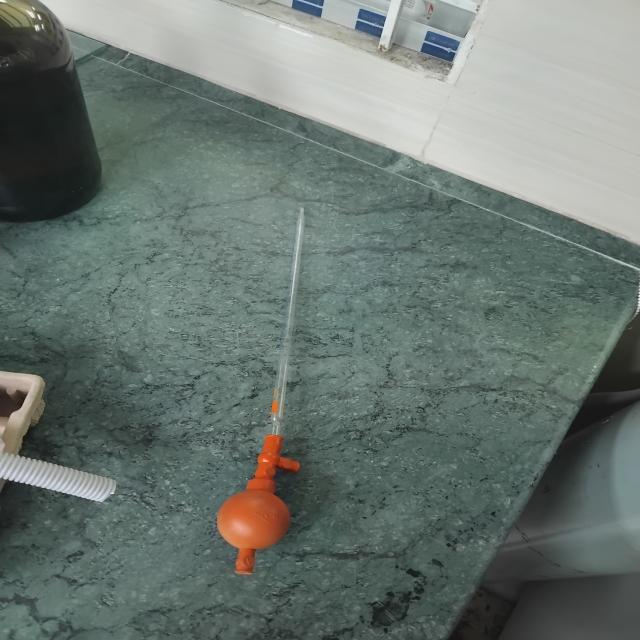Volumetric_Pipet: (182, 167, 367, 595)
